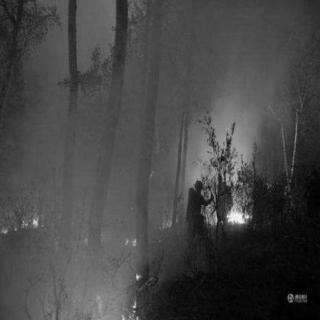Fire: (108, 228, 146, 316), (208, 199, 254, 227)
